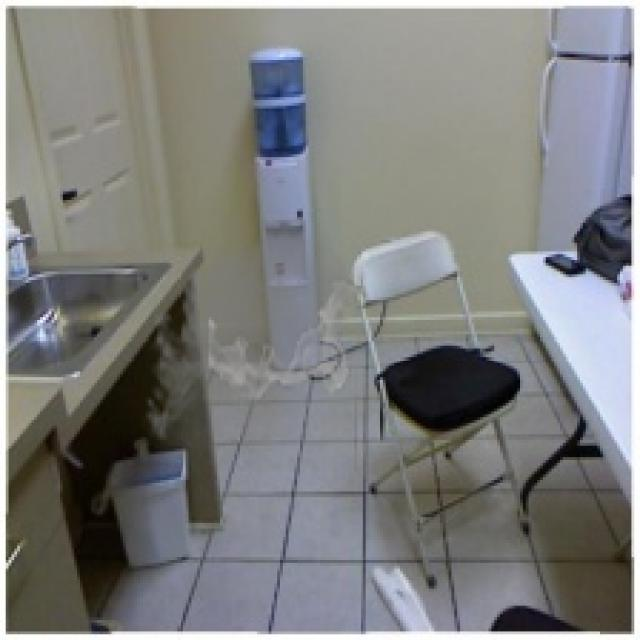smoke: (140, 212, 357, 472)
